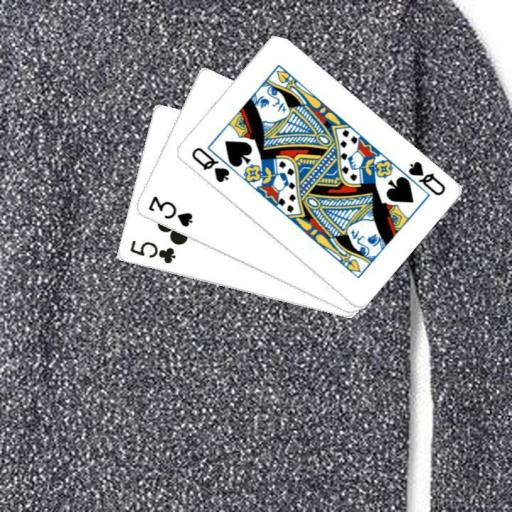3S: (144, 193, 194, 229)
5C: (126, 238, 176, 265)
QS: (188, 144, 231, 184), (404, 158, 446, 198)
